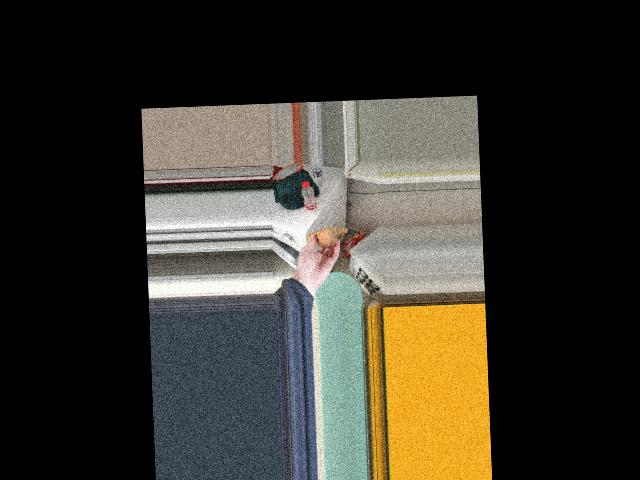sweet_potato: (308, 227, 340, 246)
